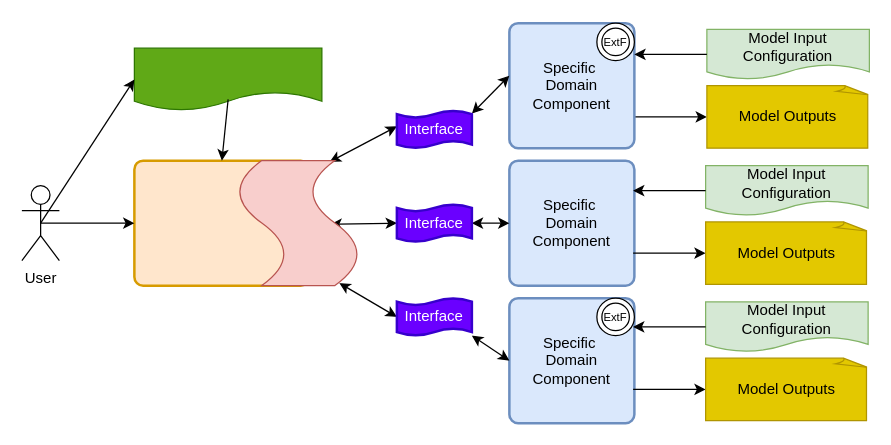
Image size: 891x445. Some labels were removed from this diagram. Here are the shapes that lost their labels. From the top down, the box of each, then its label:
(133, 47, 322, 111): Configuration
(132, 159, 310, 286): DIMR
(236, 159, 359, 286): Component Knowledge
